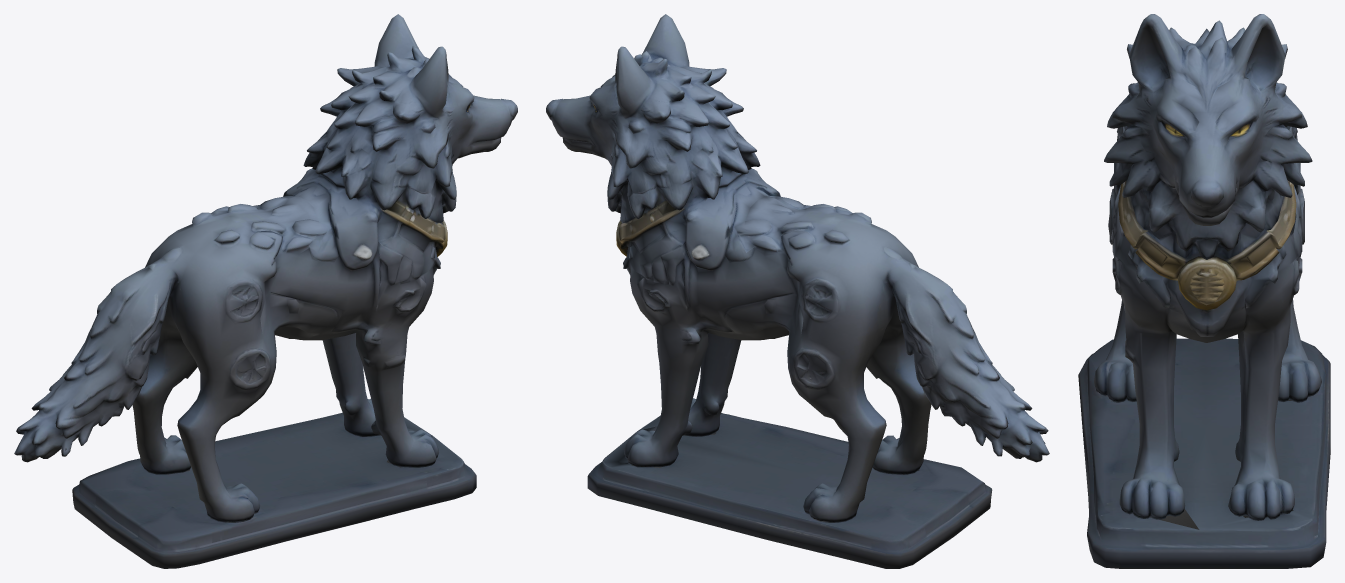
File: wolf.glb
3 views of the same model, side by side, from view 1: azimuth 30°, elevation 25°; view 2: azimuth 150°, elevation 25°; view 3: azimuth 270°, elevation 25° (orthographic). The views are drawn at different scales.
Parts seen in each view (by area): view 1: tripo_node_af3c4880-9687-4520-8e81-026a9ce672b9; view 2: tripo_node_af3c4880-9687-4520-8e81-026a9ce672b9; view 3: tripo_node_af3c4880-9687-4520-8e81-026a9ce672b9.
Part boxes in pixels (box(x1,y1,x2,y2)): tripo_node_af3c4880-9687-4520-8e81-026a9ce672b9: box(14, 14, 517, 568); tripo_node_af3c4880-9687-4520-8e81-026a9ce672b9: box(546, 14, 1049, 568); tripo_node_af3c4880-9687-4520-8e81-026a9ce672b9: box(1078, 14, 1330, 568).
Size of the model in its own units: 0.4248 by 0.35 by 0.1471.
Materials: 1 (1 with a texture image).
